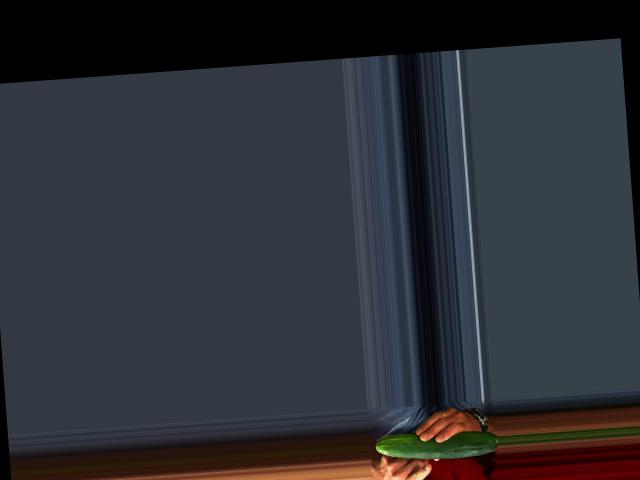cucumber: (374, 425, 499, 464)
